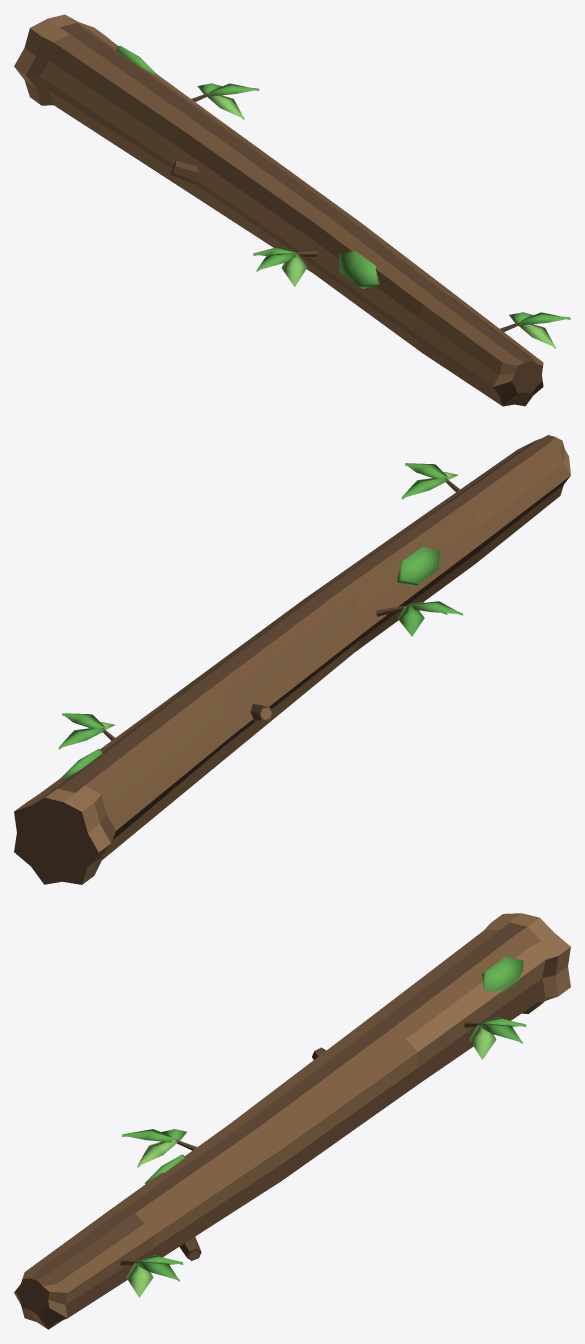
File: branch-log.glb
The picture shows the model from 3 angles, top to bottom: view 1: azimuth 30°, elevation 25°; view 2: azimuth 150°, elevation 25°; view 3: azimuth 330°, elevation 25°; orthographic projection. The views are drawn at different scales.
Parts seen in each view (by area): view 1: branch-log; view 2: branch-log; view 3: branch-log.
Boxes of the visible parts, left/top/right/bottom form: branch-log: left=14, top=14, right=570, bottom=406; branch-log: left=14, top=435, right=570, bottom=884; branch-log: left=14, top=913, right=570, bottom=1329.
Size of the model in its own units: 9.4 by 3.88 by 40.
